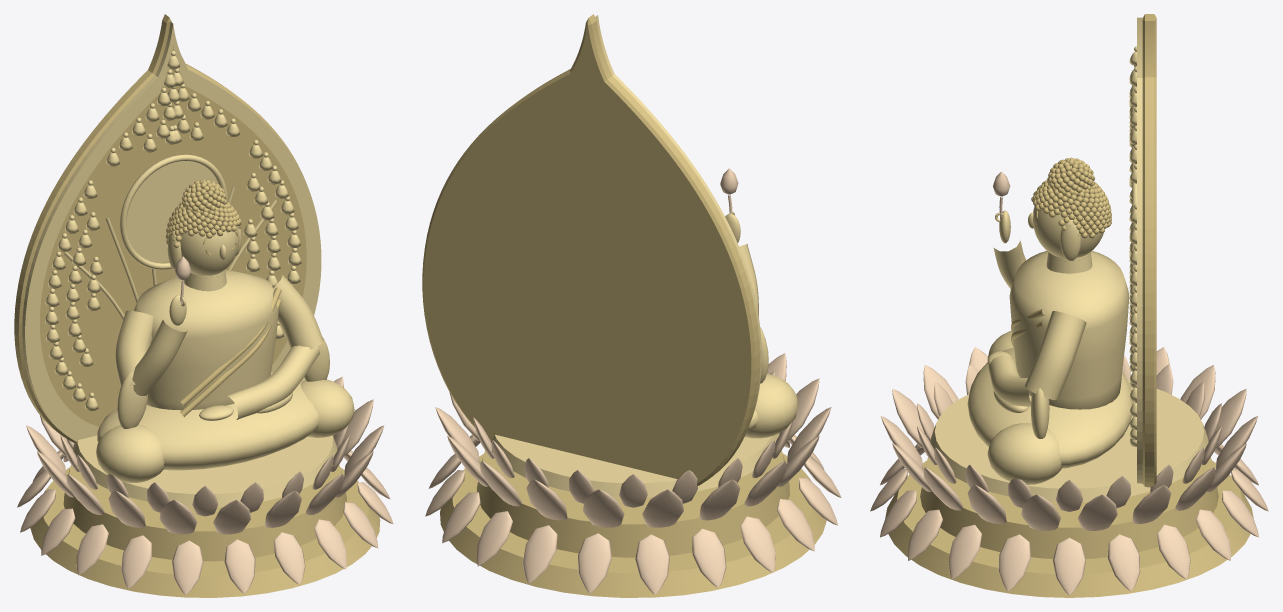
Rendered from phap-chu-statue-base.glb.
3 views of the same model, side by side, from view 1: azimuth 30°, elevation 25°; view 2: azimuth 150°, elevation 25°; view 3: azimuth 270°, elevation 25° (orthographic). The views are drawn at different scales.
Parts seen in each view (by area): view 1: phap-chu-statue, instanced-baked (×3); view 2: phap-chu-statue; view 3: phap-chu-statue, instanced-baked (×2).
Part boxes in pixels (<box>): phap-chu-statue: <box>14,14,393,597</box>; instanced-baked (×3): <box>45,50,301,410</box>; phap-chu-statue: <box>422,14,841,597</box>; phap-chu-statue: <box>870,14,1268,597</box>; instanced-baked (×2): <box>1031,51,1136,446</box>.
Size of the model in its own units: 6.81 by 9.53 by 6.81.
